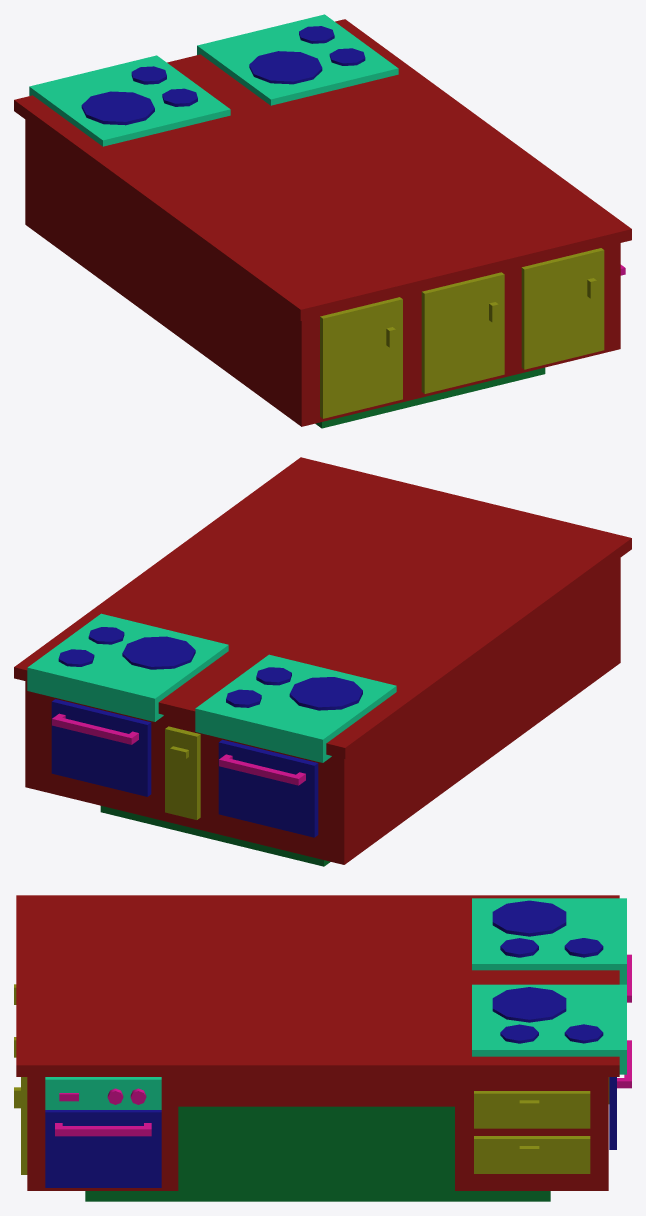
File: SM_IlotCuisine.FBX
3 views of the same model, one above another, from view 1: azimuth 30°, elevation 25°; view 2: azimuth 150°, elevation 25°; view 3: azimuth 270°, elevation 25° (orthographic). The views are drawn at different scales.
Visible parts, largest first — view 1: SM_IlotCuisine; view 2: SM_IlotCuisine; view 3: SM_IlotCuisine.
Part boxes in pixels (box(x1,y1,x2,y2)): SM_IlotCuisine: box(14, 14, 631, 428); SM_IlotCuisine: box(14, 457, 631, 866); SM_IlotCuisine: box(14, 895, 631, 1201).
Size of the model in its own units: 215 by 99.07 by 319.
